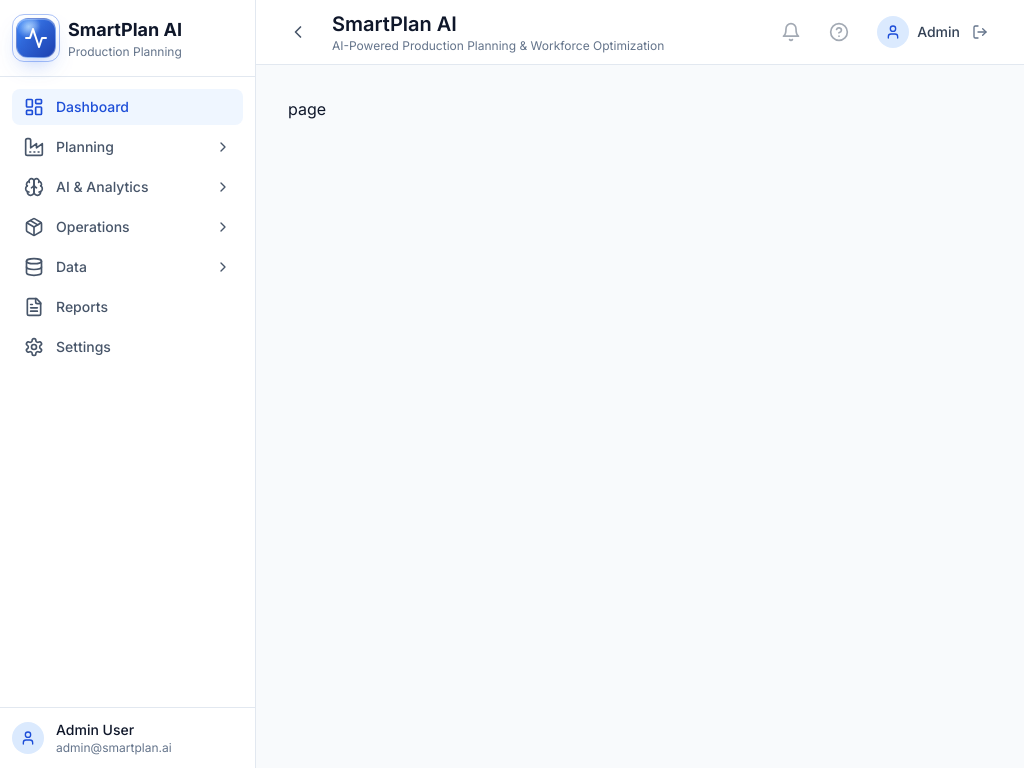
it: sidebar navigation › expands a group on click from a page outside it, and collapses it again
The image size is (1024, 768).
Expected: the text "Orders" is not shown
Step 1. Click the button "Operations" → (128, 227), box 12,209 -> 243,245
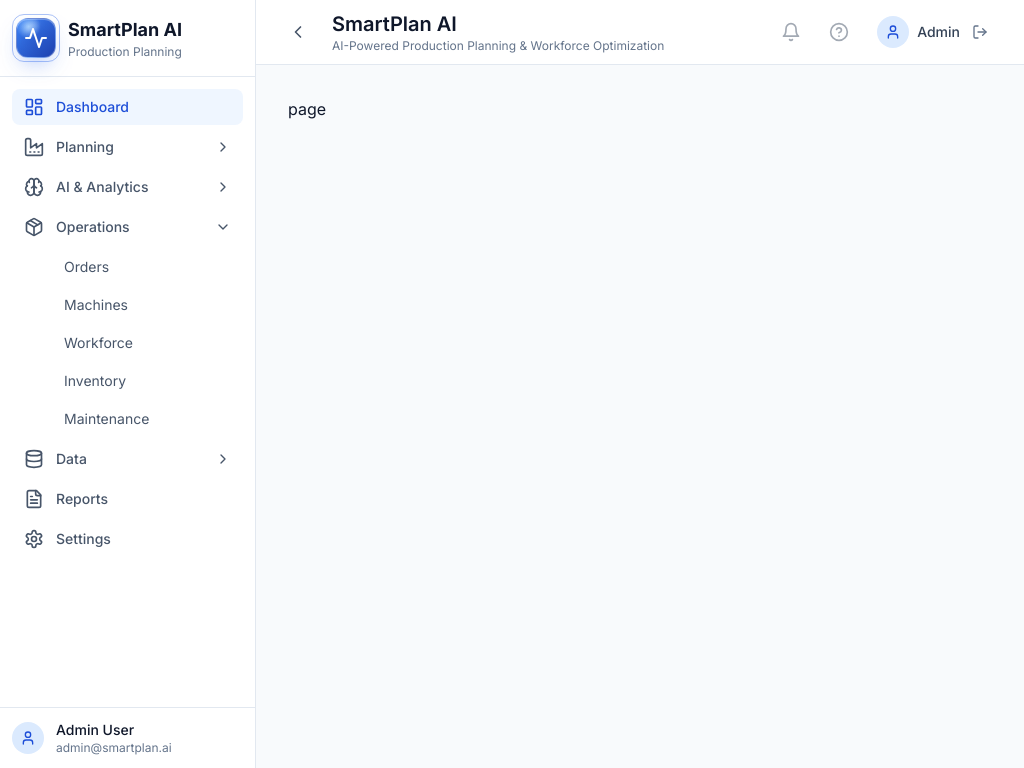
Result: the button "Operations" is expanded
Step 2. Click the button "Operations" → (128, 227), box 12,209 -> 243,245
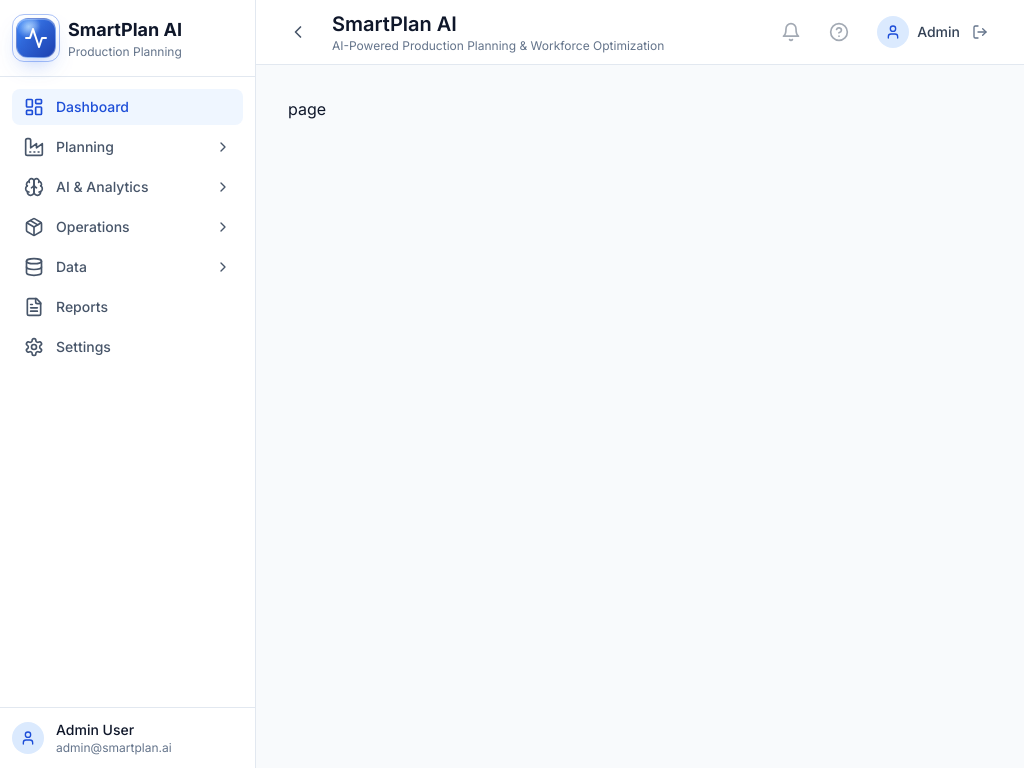
Result: the link "Orders" is gone
